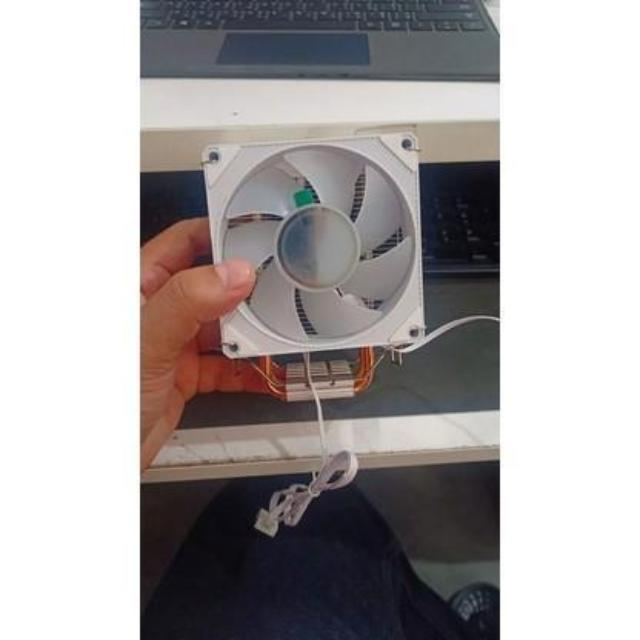CPU_Fan: (197, 146, 429, 402)
